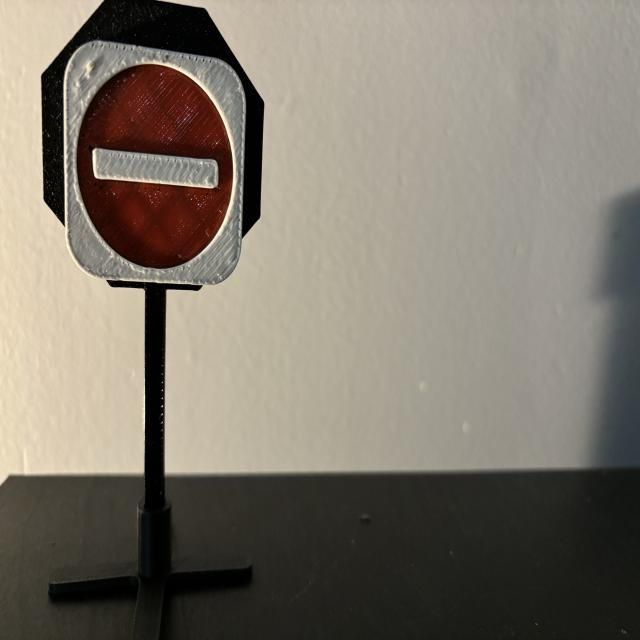sign_noentry: (65, 41, 246, 285)
